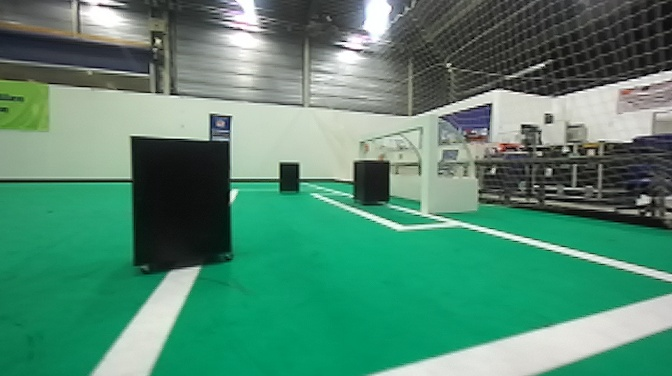goalpost: (420, 121, 436, 217), (351, 140, 361, 161)
